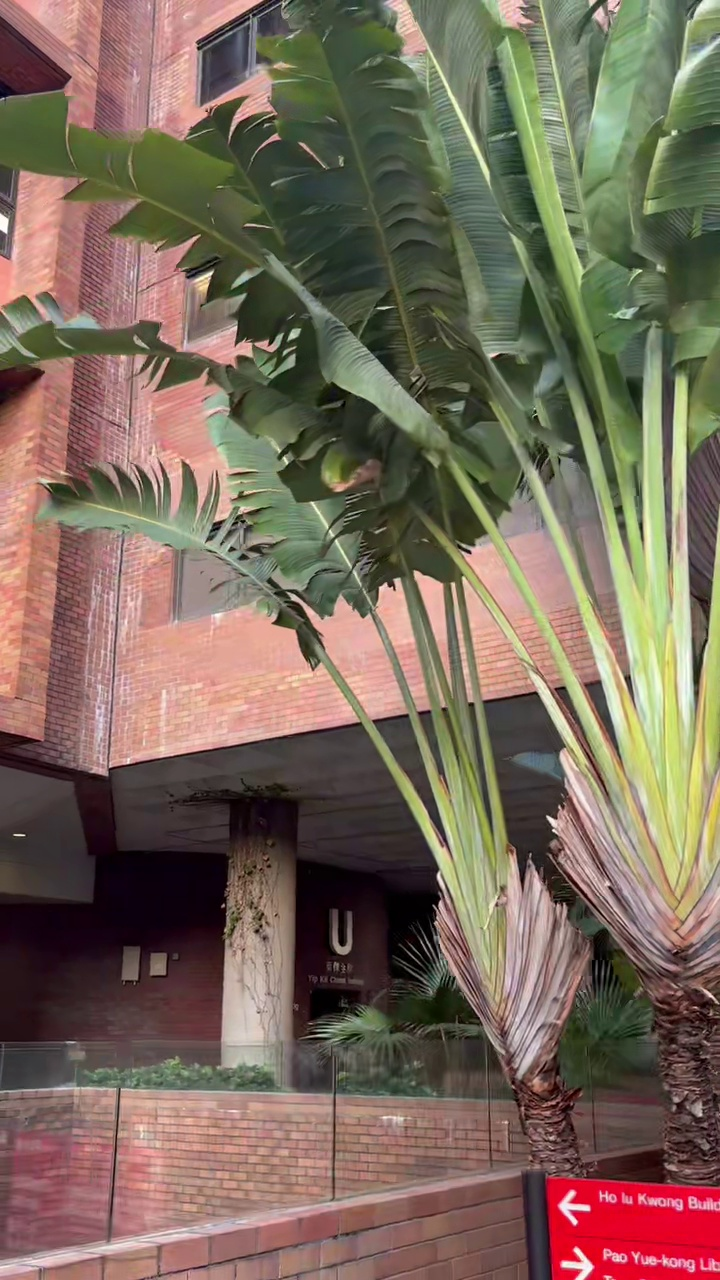Travellers-tree: (0, 0, 719, 1184)
